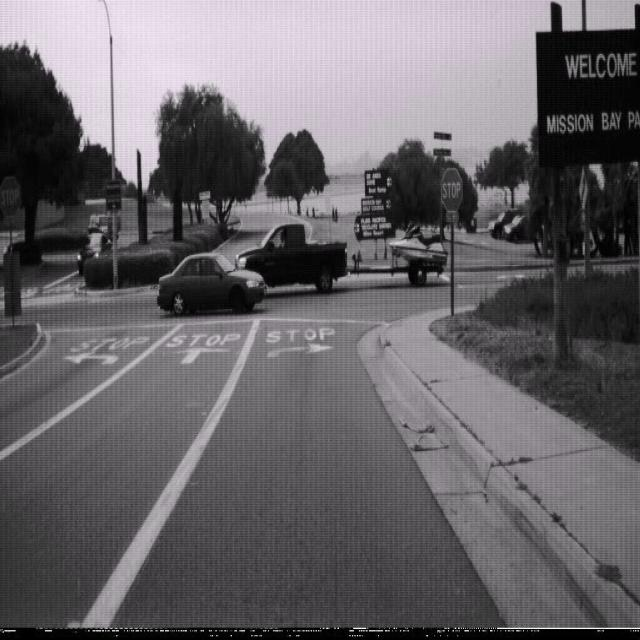stop_sign: (439, 166, 463, 214)
